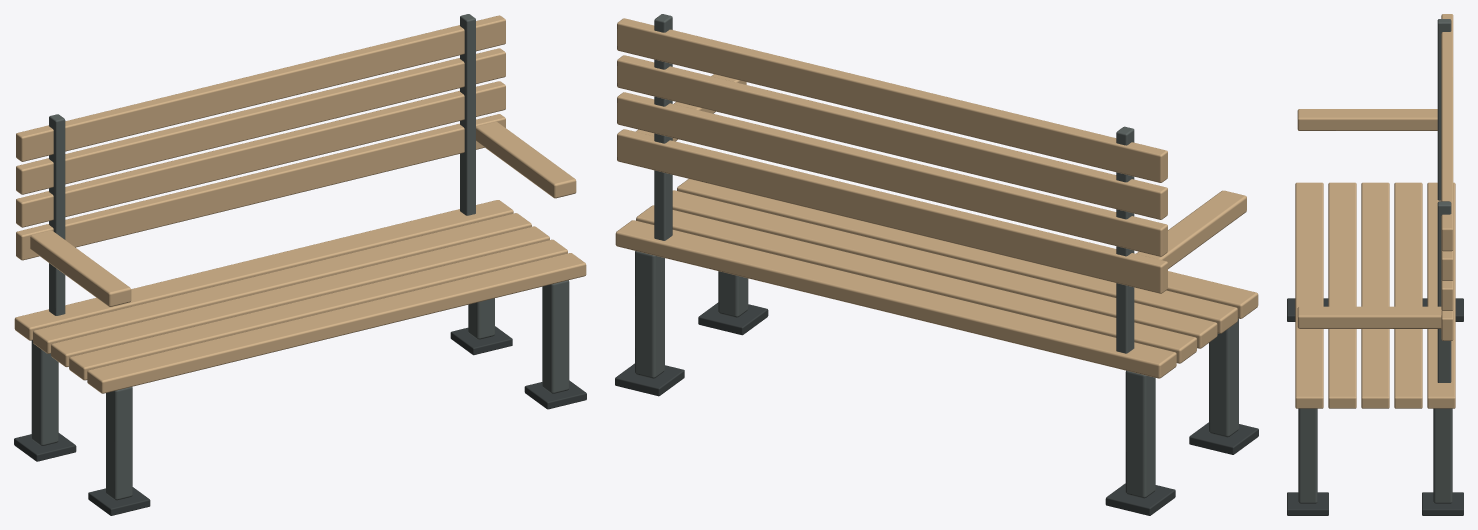
File: public-library-and-reading-garden-public-library-and-r-6fab245b__30945.glb
The picture shows the model from 3 angles, left to right: view 1: azimuth 30°, elevation 25°; view 2: azimuth 150°, elevation 25°; view 3: azimuth 270°, elevation 25°; orthographic projection. The views are drawn at different scales.
Visible parts, largest first — view 1: public-library-and-reading-garden-garden-reading-bench; view 2: public-library-and-reading-garden-garden-reading-bench; view 3: public-library-and-reading-garden-garden-reading-bench.
Boxes of the visible parts, box(x1,y1,x2,y2) form: public-library-and-reading-garden-garden-reading-bench: box(14, 14, 586, 515); public-library-and-reading-garden-garden-reading-bench: box(615, 14, 1258, 515); public-library-and-reading-garden-garden-reading-bench: box(1287, 14, 1463, 515).
Size of the model in its own units: 1.7 by 1.1 by 0.59.
